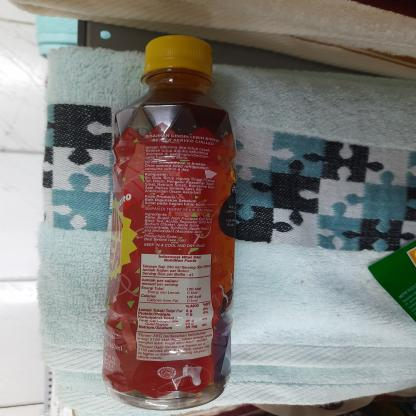bottle: (96, 31, 240, 413)
